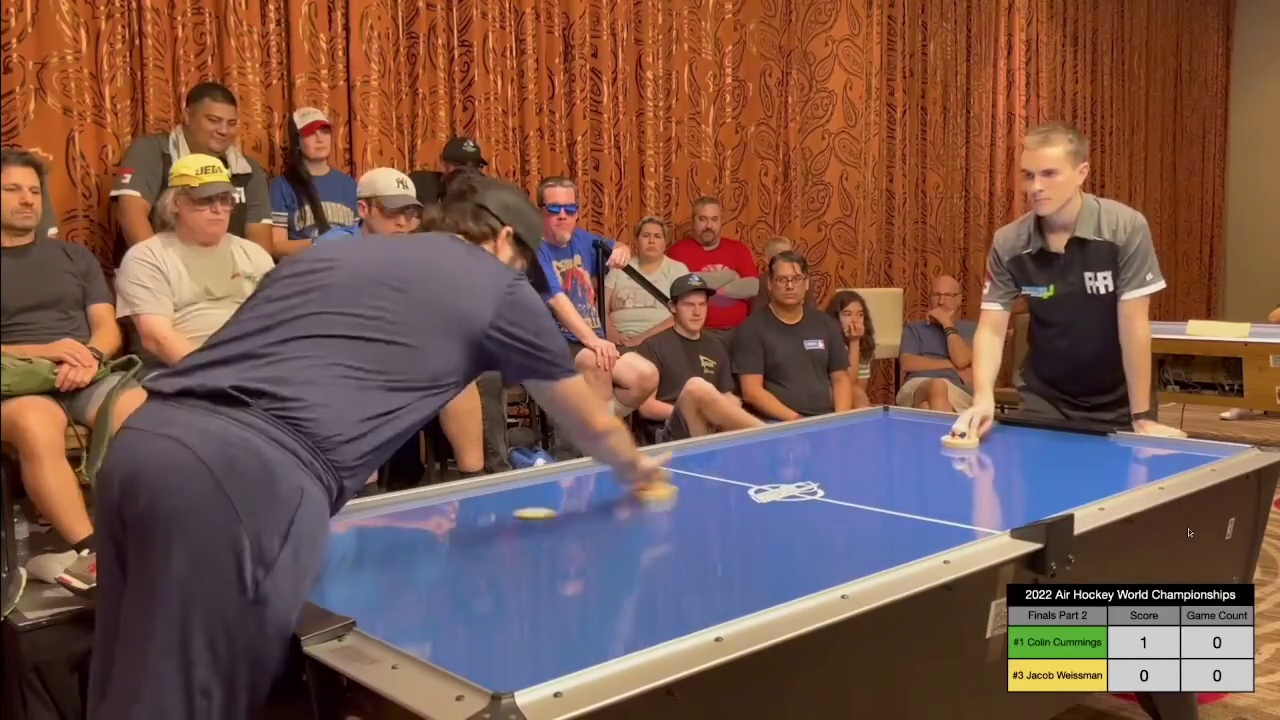player: (642, 470, 681, 502), (938, 425, 983, 452)
puck: (510, 505, 559, 521)
table: (209, 402, 1278, 695)
